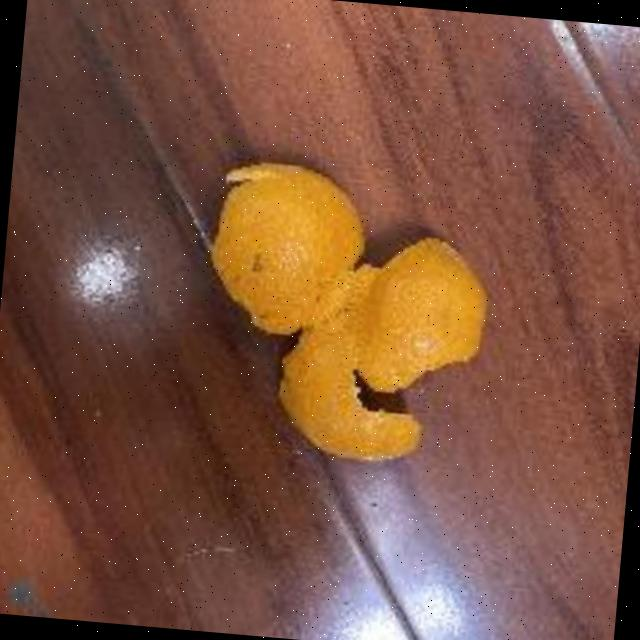orange-peel: (188, 150, 502, 472)
